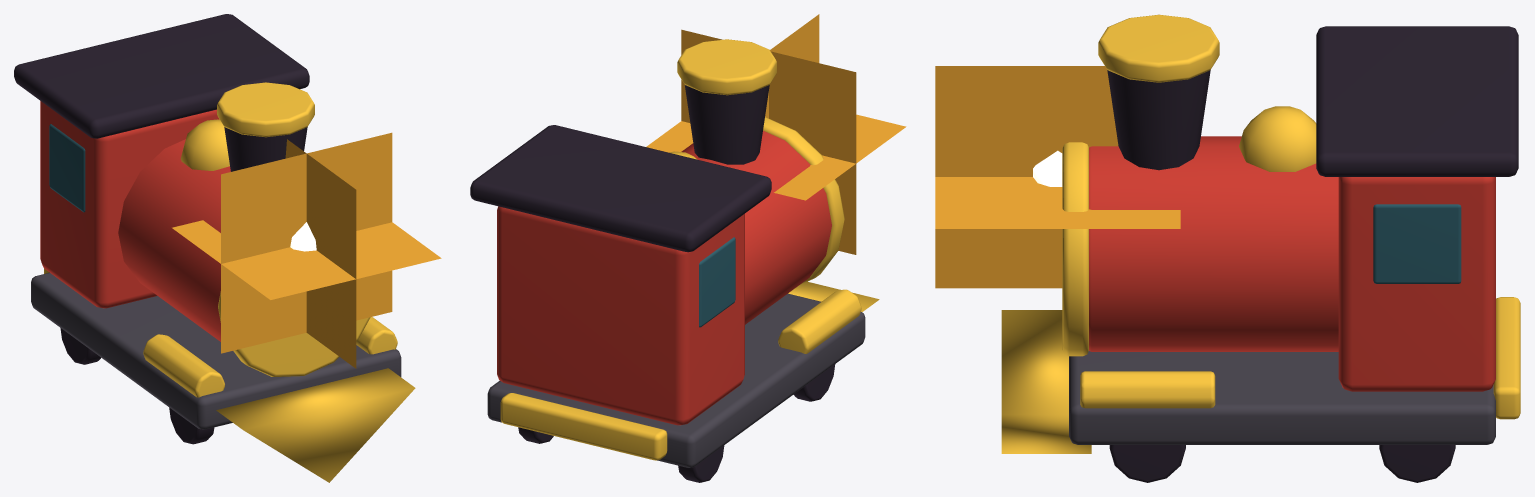
The model's file is gulch_coaster_loco.glb.
3 renders of one model, left to right at view 1: azimuth 30°, elevation 25°; view 2: azimuth 150°, elevation 25°; view 3: azimuth 270°, elevation 25°, orthographic. The views are drawn at different scales.
Parts seen in each view (by area): view 1: CoasterLoco; view 2: CoasterLoco; view 3: CoasterLoco.
Boxes of the visible parts, x1,y1,x2,y2 form: CoasterLoco: (14, 14, 441, 482); CoasterLoco: (470, 14, 906, 482); CoasterLoco: (935, 14, 1520, 482).
Size of the model in its own units: 1.4 by 2.04 by 2.61.
